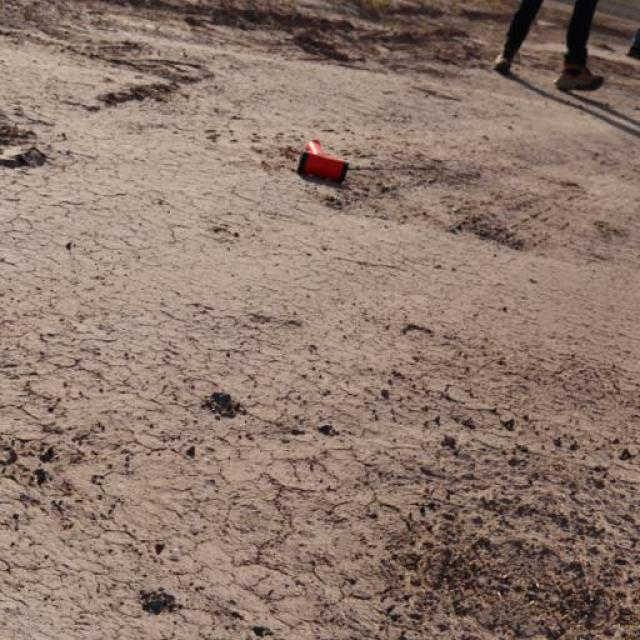mallet: (295, 138, 349, 184)
